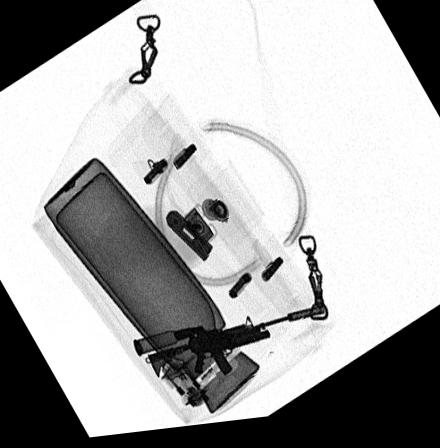Bullet: (132, 331, 204, 361)
Gun: (147, 313, 323, 383)
